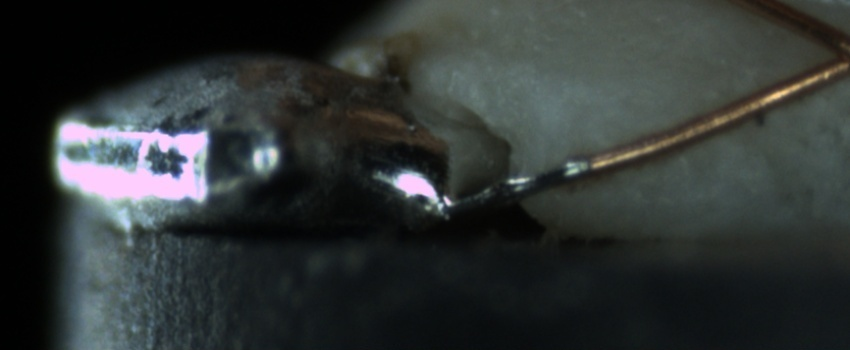CL: (802, 10, 849, 88)
TB: (487, 169, 532, 211)
TS: (436, 157, 587, 215)
TTCW: (427, 131, 642, 220)
